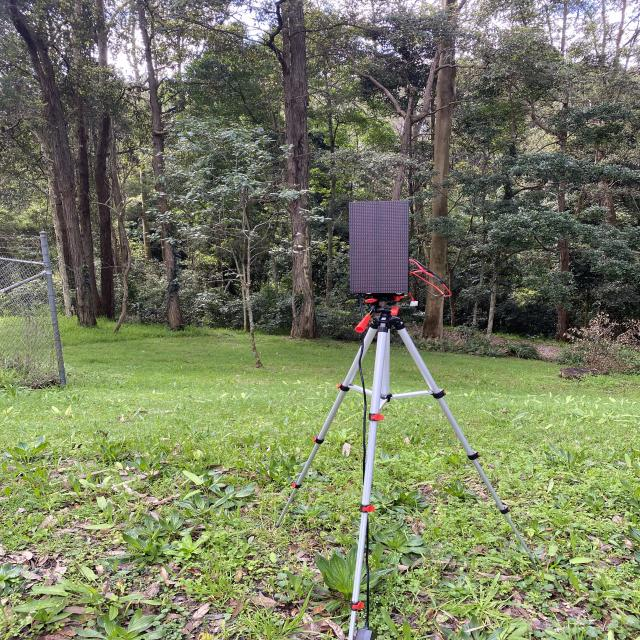matrix: (338, 194, 421, 302)
